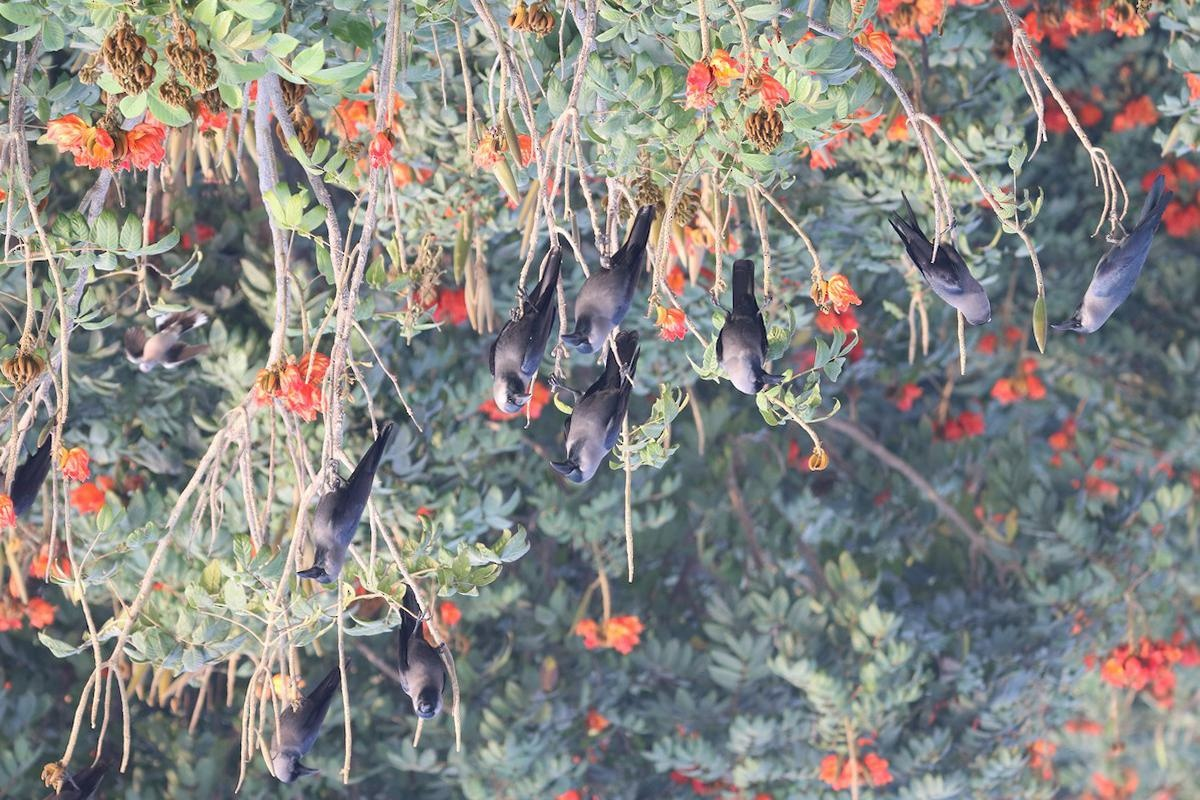crow: (1048, 171, 1190, 355), (283, 415, 404, 595), (877, 190, 1016, 337), (557, 201, 678, 355), (485, 240, 580, 422), (554, 332, 659, 490), (708, 252, 790, 414), (254, 662, 357, 787), (396, 564, 458, 743)
